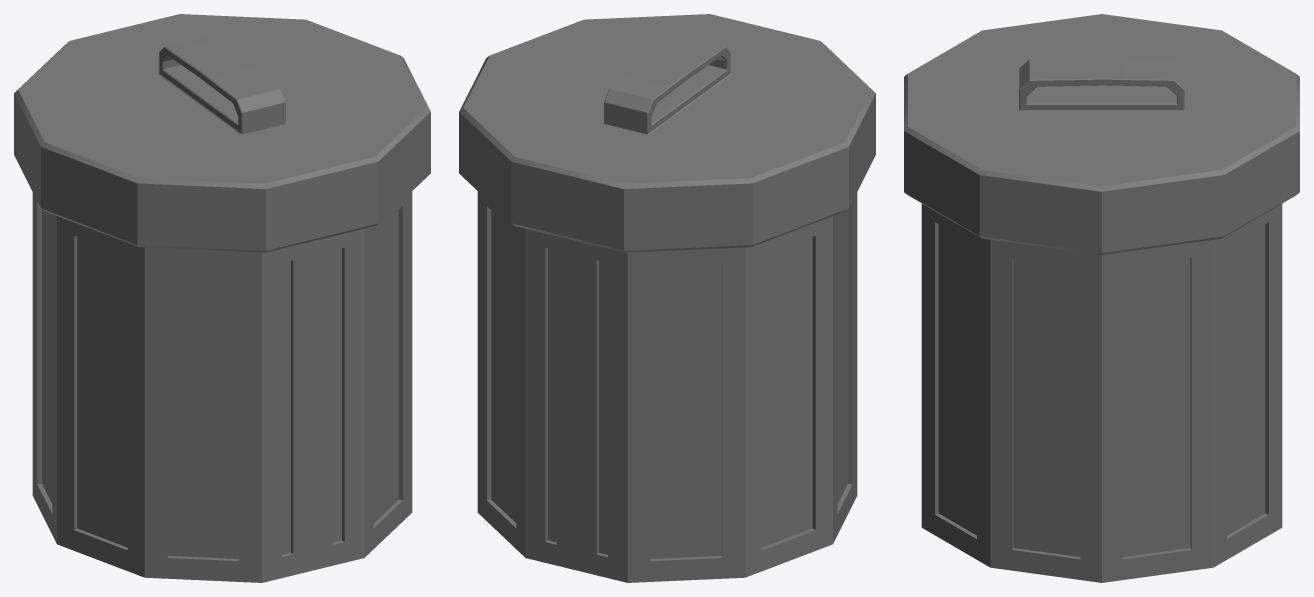
File: poubelle_text (1).fbx
3 views of the same model, side by side, from view 1: azimuth 30°, elevation 25°; view 2: azimuth 150°, elevation 25°; view 3: azimuth 270°, elevation 25° (orthographic).
Parts seen in each view (by area): view 1: poubelle; view 2: poubelle; view 3: poubelle.
Boxes of the visible parts, <box> form: poubelle: <box>14,14,430,582</box>; poubelle: <box>459,14,875,582</box>; poubelle: <box>904,14,1299,582</box>.
Size of the model in its own units: 65.61 by 75.58 by 62.4.
1 material, 1 textured.
